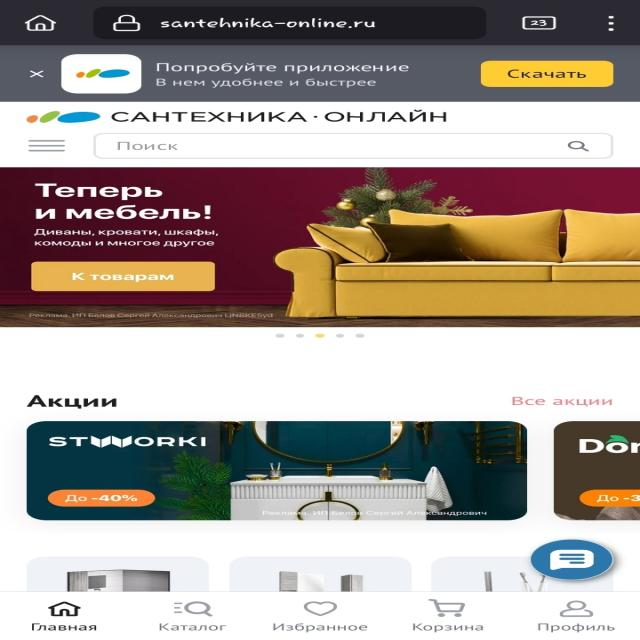button: (482, 61, 615, 87), (27, 68, 46, 80)
site: (0, 44, 638, 101)
